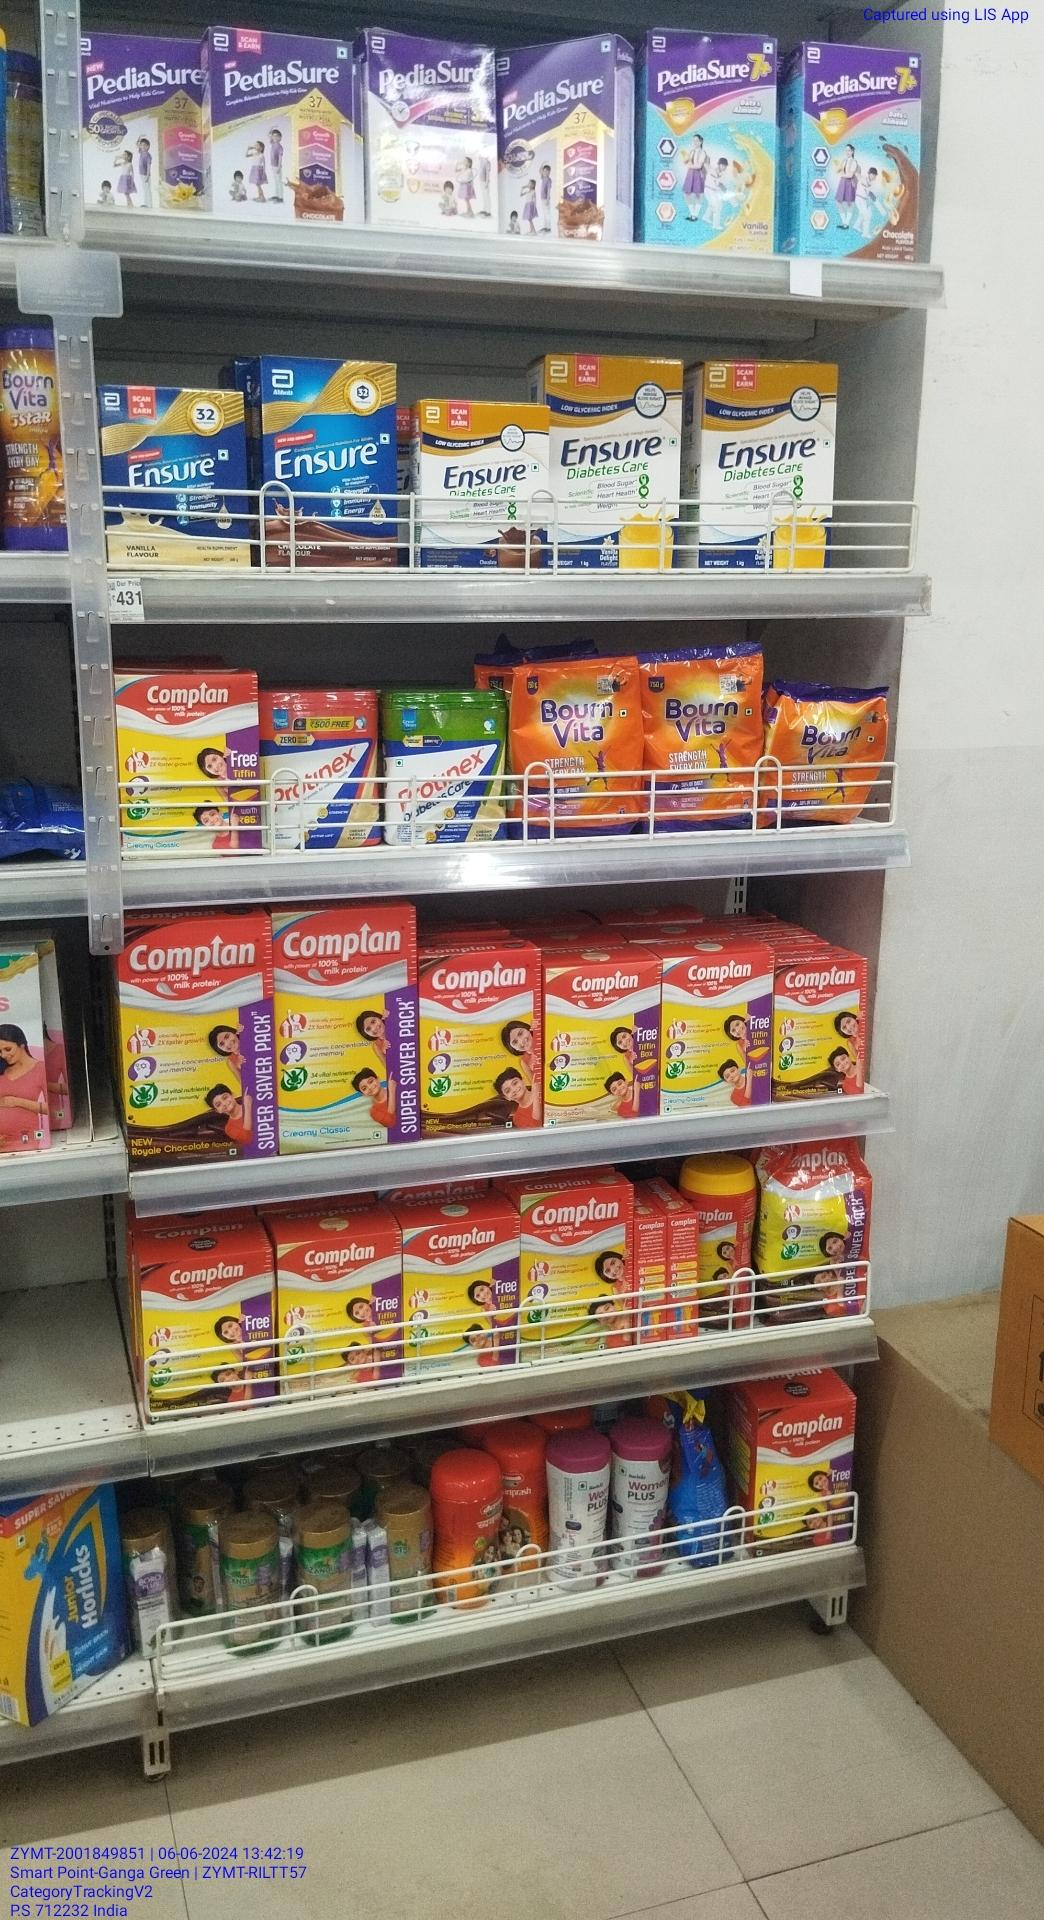COMPLAN_CHOCOLATE_500_GMS_JAR: (698, 1178, 757, 1335)
COMPLAN_CREAMY_CLASSIC_500_G_PACK: (114, 675, 251, 867), (404, 1225, 522, 1384), (663, 955, 769, 1119)
COMPLAN_PISTA_BADAM_500_GMS_PACK: (525, 1189, 631, 1357)
PEDIASURE_7_PLUS_CHOCOLATE_400_G_PACK: (802, 42, 917, 261)
PEDIASURE_CHOCOLATE_500_G_PACK: (211, 26, 361, 225), (503, 42, 612, 238)
PEDIASURE_VANILLA_500_G_PACK: (80, 33, 207, 213)
PROTINEX_VANILLA_400_G_JAR: (262, 689, 379, 849)
